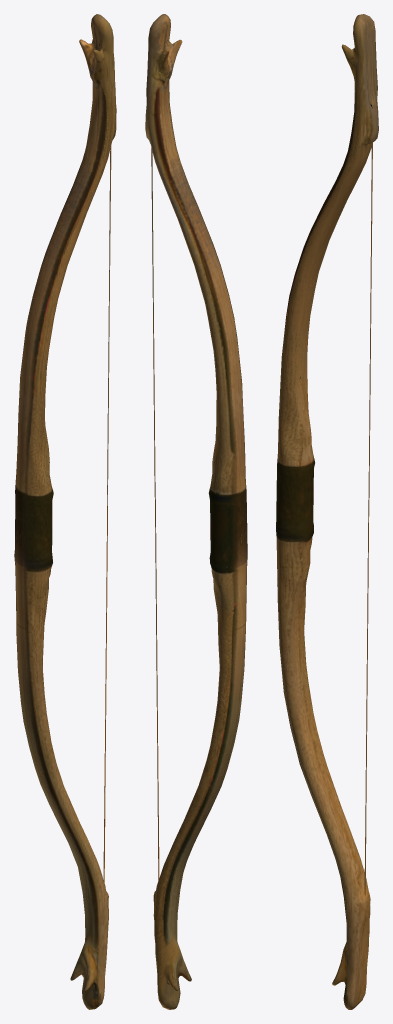
Rendered from Bow.fbx.
3 views of the same model, side by side, from view 1: azimuth 30°, elevation 25°; view 2: azimuth 150°, elevation 25°; view 3: azimuth 330°, elevation 25° (orthographic).
Visible parts, largest first — view 1: Bow; view 2: Bow; view 3: Bow.
Part boxes in pixels (x1,y1,x2,y2): Bow: [14, 14, 116, 1009]; Bow: [145, 14, 247, 1009]; Bow: [276, 14, 378, 1009].
Bounding box in the file's own units: 20.43 × 201 × 7.85.
1 material, 1 textured.
